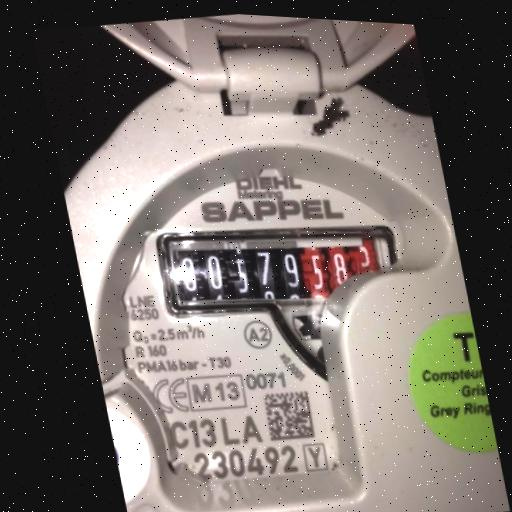0: (200, 248, 228, 302), (175, 249, 202, 302)
5: (302, 245, 331, 300), (227, 247, 255, 301), (355, 243, 375, 272)
7: (251, 247, 280, 301)
8: (328, 244, 352, 288)
9: (277, 246, 307, 301)
border_water_meter_number: (161, 207, 402, 330)
